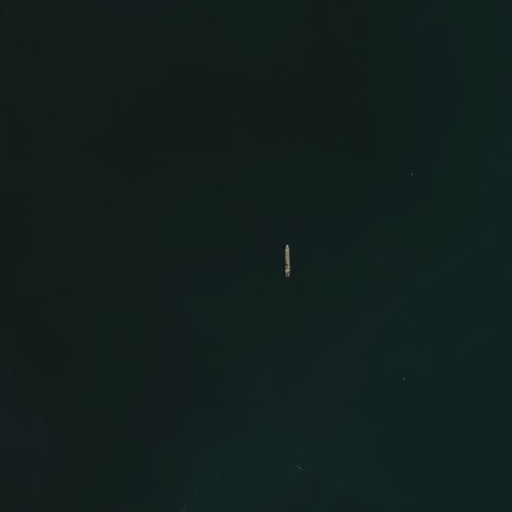ship: (281, 241, 293, 282)
